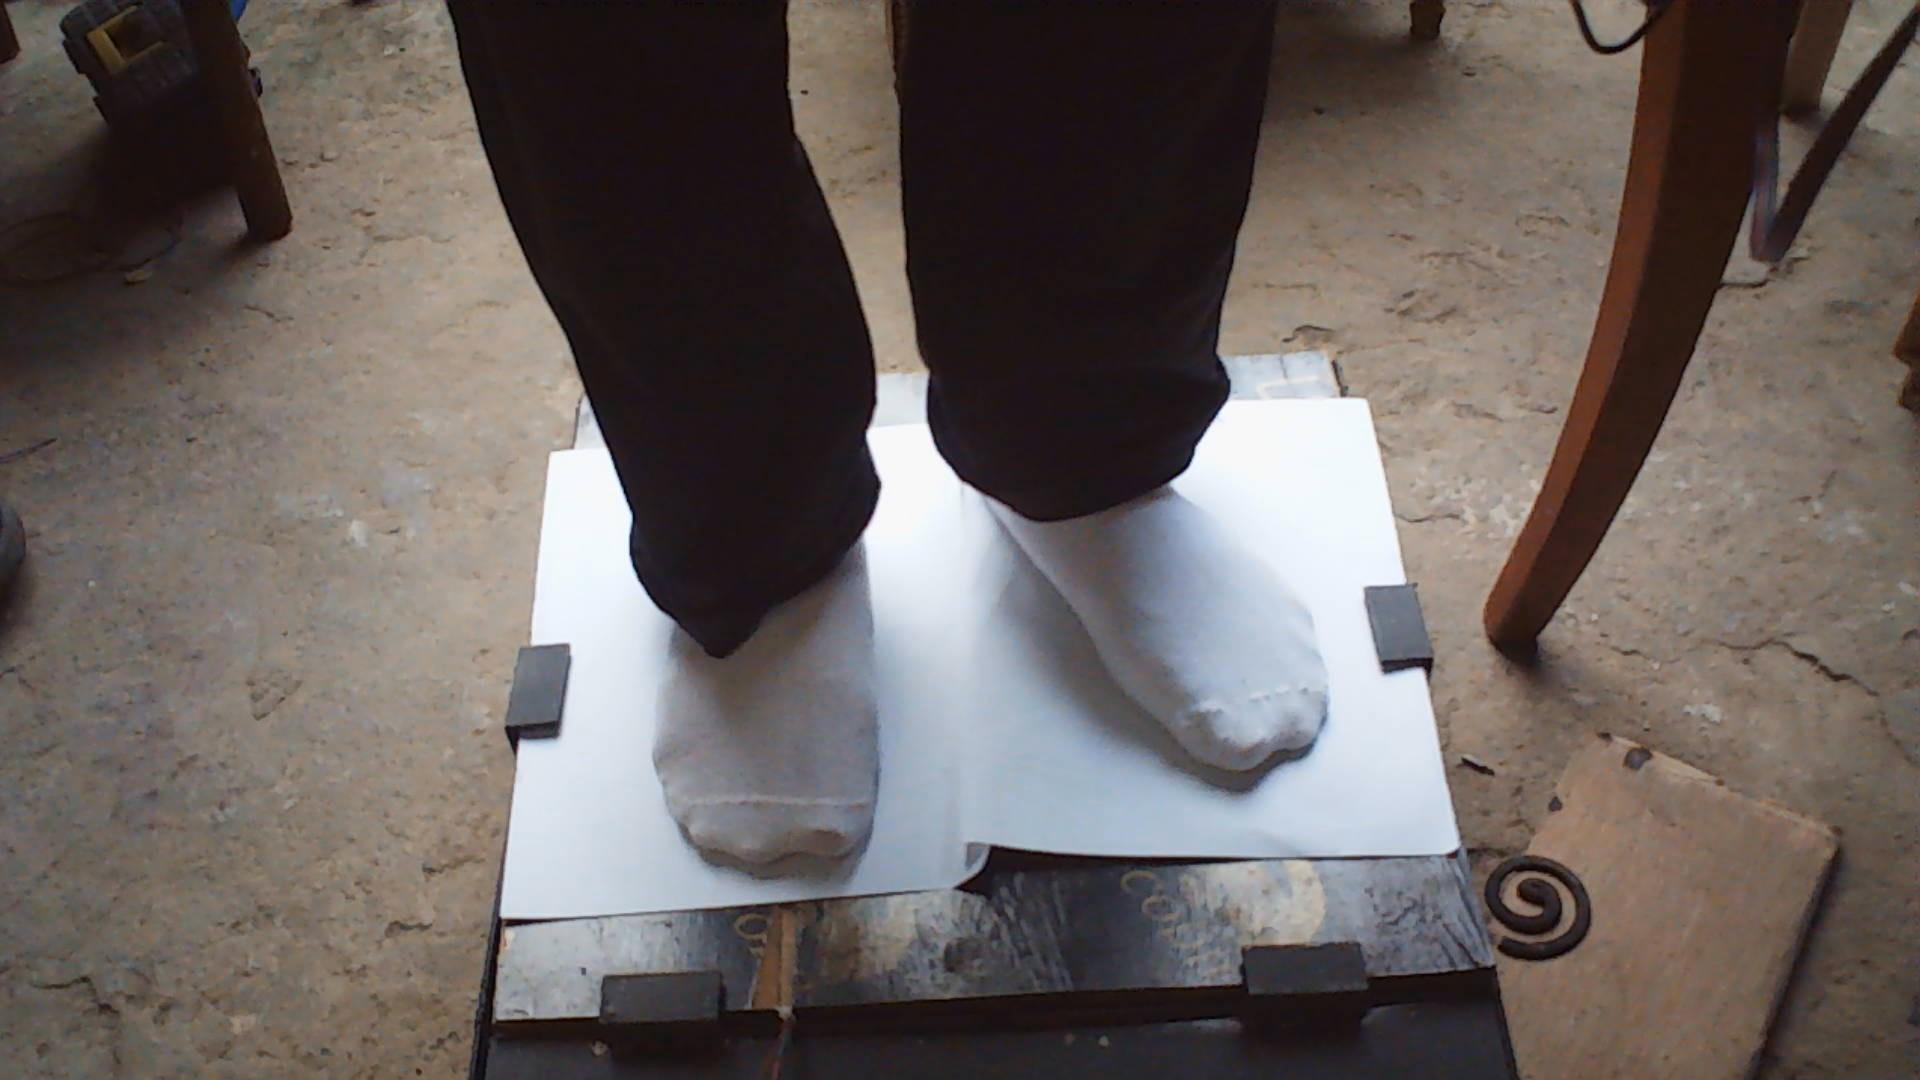white_socks: (938, 355, 1379, 825), (600, 380, 932, 910)
